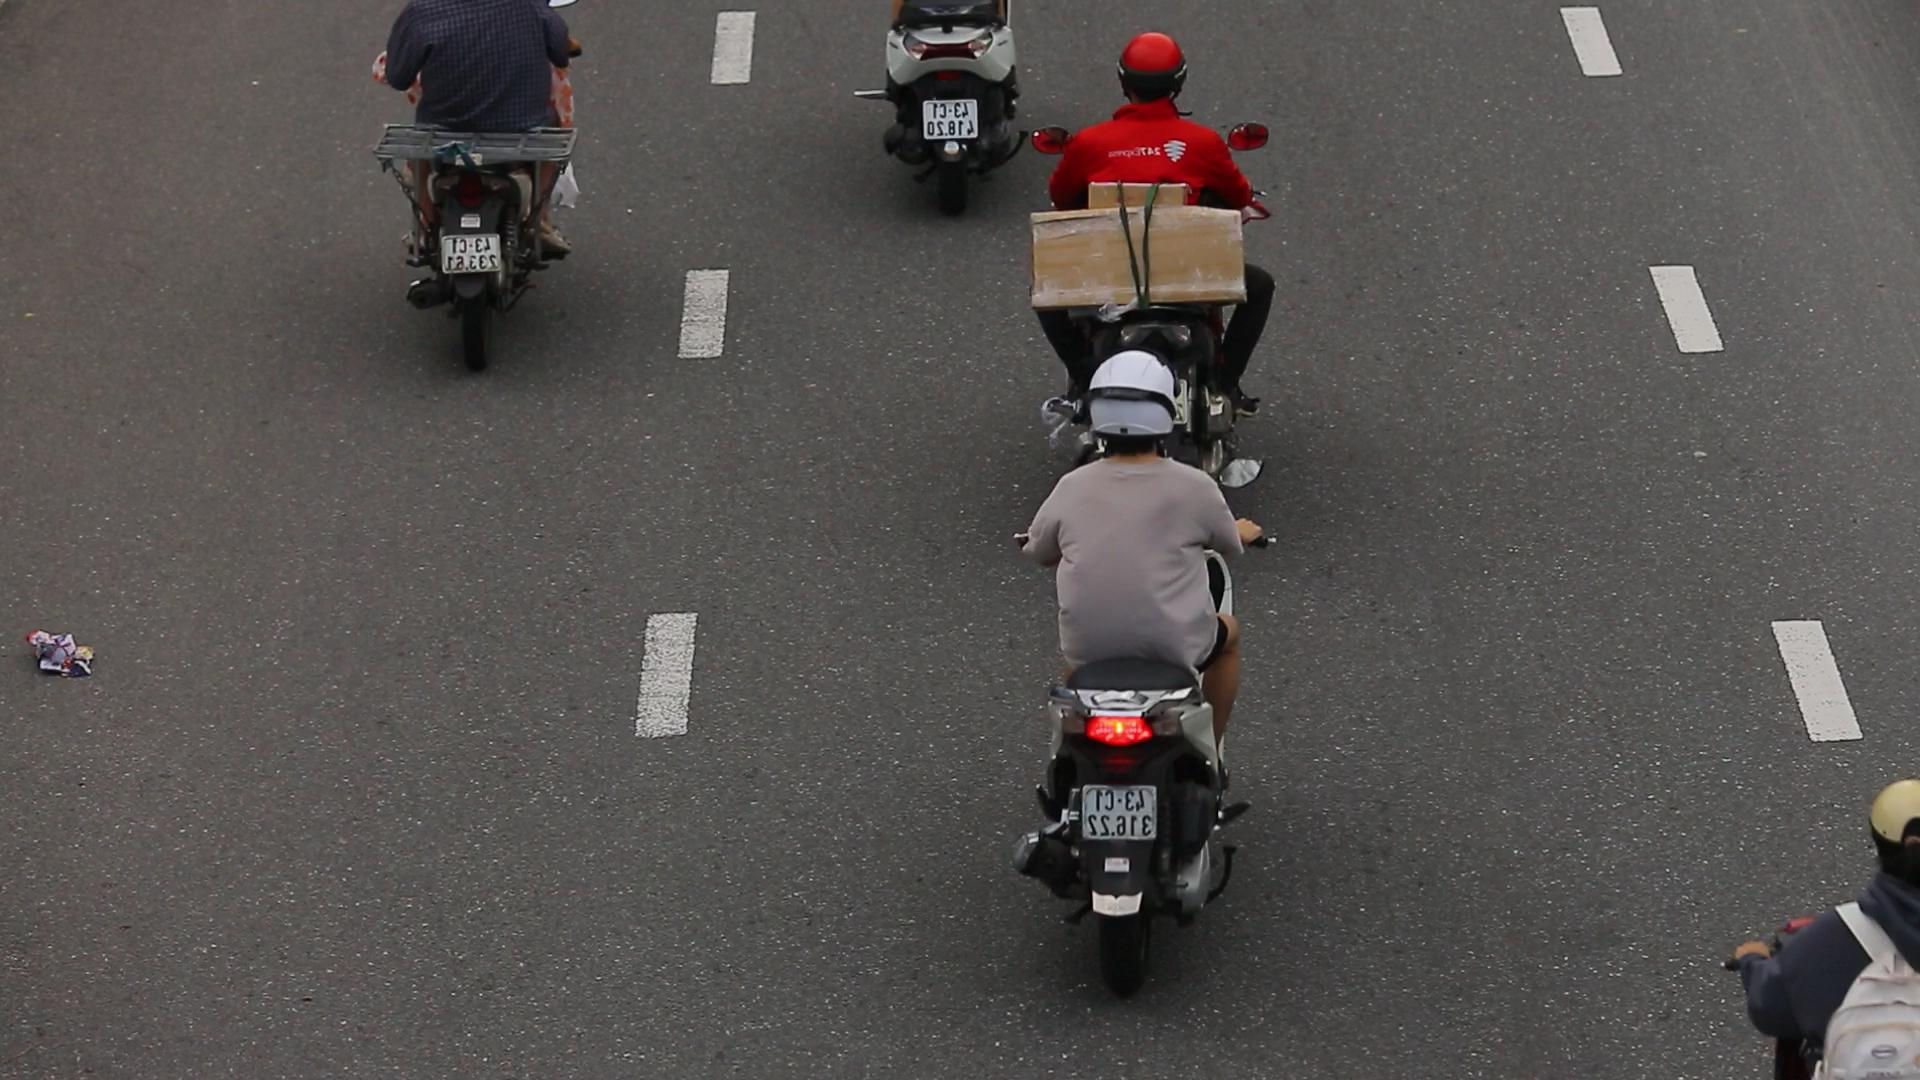motobike: (967, 344, 1280, 986)
